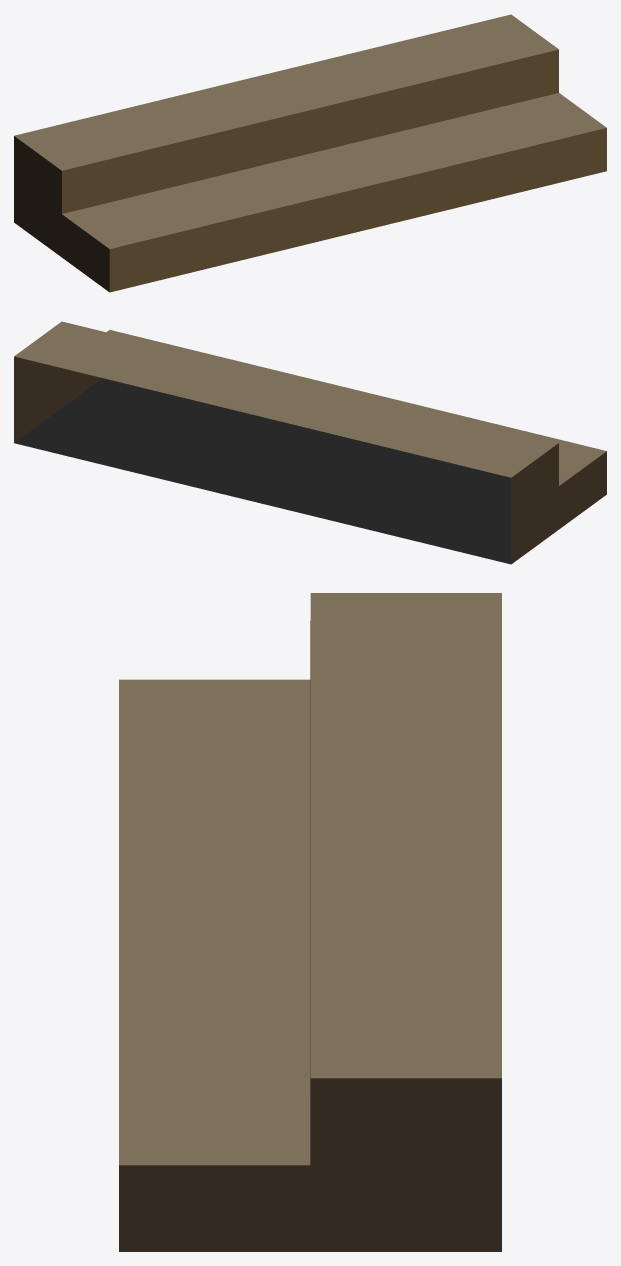
File: TB_D_Bd_DoorStair_B.FBX
3 views of the same model, one above another, from view 1: azimuth 30°, elevation 25°; view 2: azimuth 150°, elevation 25°; view 3: azimuth 270°, elevation 25° (orthographic). The views are drawn at different scales.
Visible parts, largest first — view 1: TB_D_Bd_DoorStair_B; view 2: TB_D_Bd_DoorStair_B; view 3: TB_D_Bd_DoorStair_B.
Boxes of the visible parts, box(x1,y1,x2,y2) form: TB_D_Bd_DoorStair_B: box(14, 14, 606, 292); TB_D_Bd_DoorStair_B: box(14, 321, 606, 564); TB_D_Bd_DoorStair_B: box(119, 593, 501, 1251).
Size of the model in its own units: 1.2 by 0.2 by 0.4.
